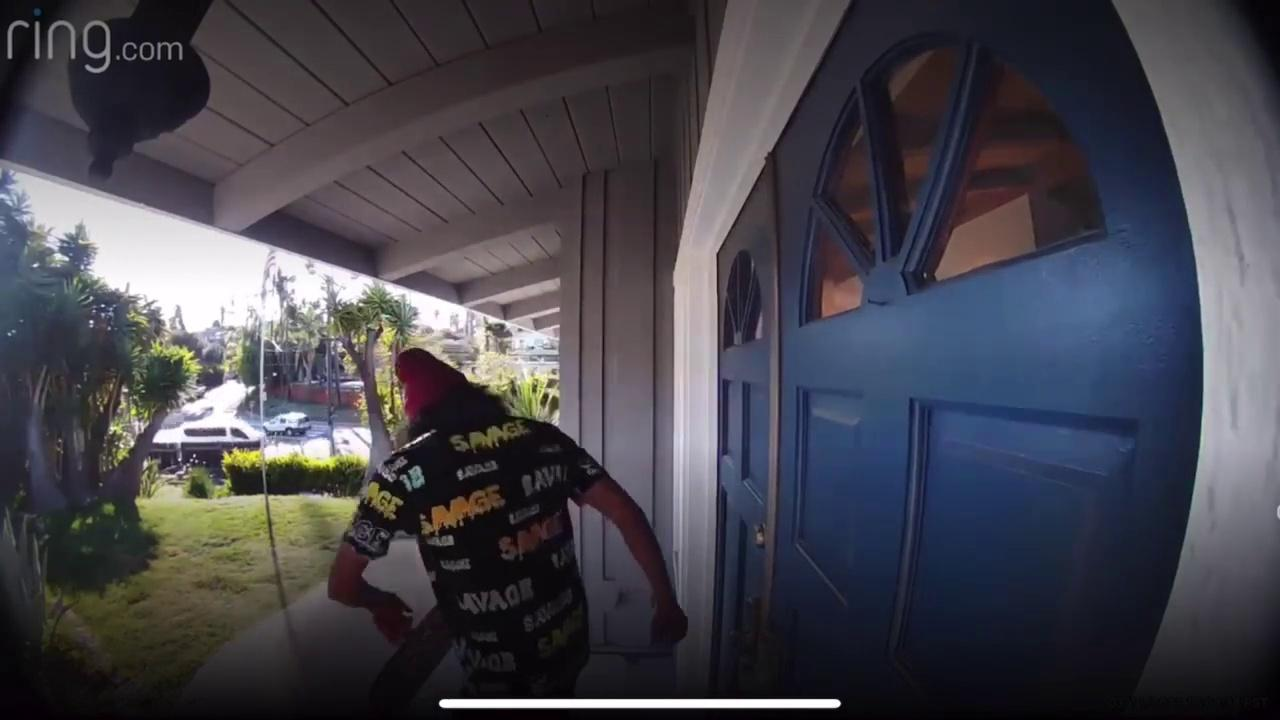suspicion: (292, 210, 716, 720)
